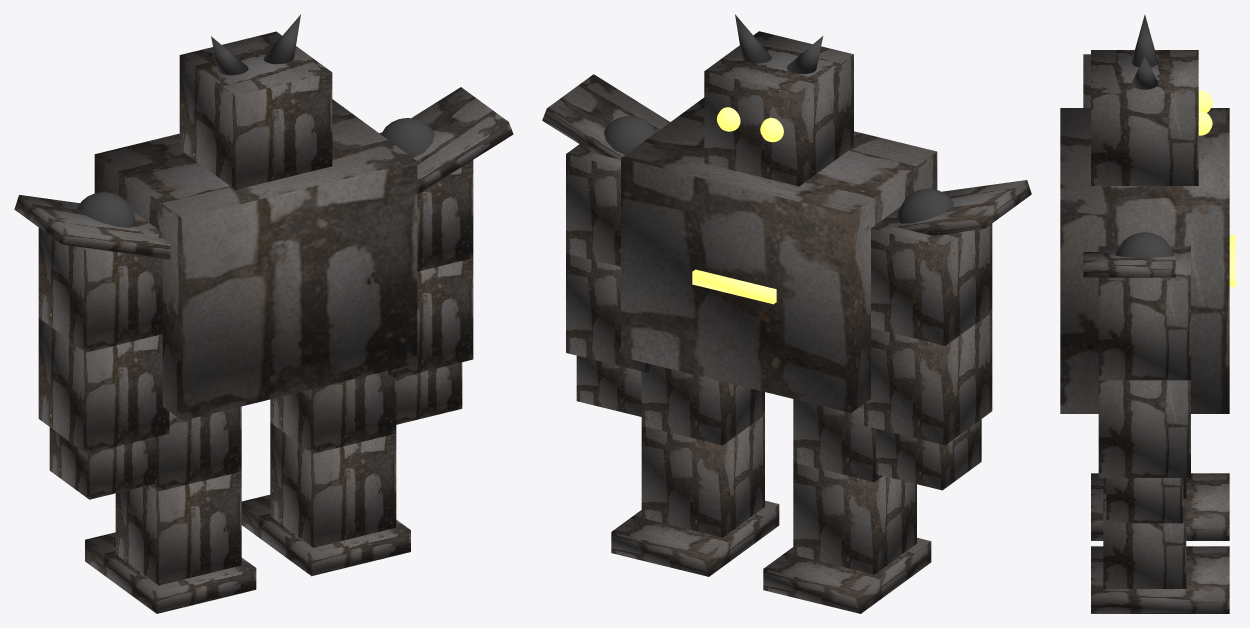
Rendered from gargoyle.glb.
3 renders of one model, left to right at view 1: azimuth 30°, elevation 25°; view 2: azimuth 150°, elevation 25°; view 3: azimuth 270°, elevation 25°, orthographic. The views are drawn at different scales.
Parts seen in each view (by area): view 1: Torso, Head, Forearm, Shin.001, UpperArm, Shin, Thigh.001, Forearm.001, Thigh, Wing.001, Foot, Foot.001 (+8 smaller); view 2: Torso, Head, UpperArm, Forearm, Shin.001, Shin, Thigh.001, Foot, Foot.001, UpperArm.001, Forearm.001, Thigh (+9 smaller); view 3: Torso, Head, UpperArm.001, Forearm.001, Foot.001, Shin.001, Foot, Fist.001, Wing.001, Shoulder.001, Horn, Horn.001 (+4 smaller).
Boxes of the visible parts, <box> form: Torso: <box>94,99,417,420</box>; Head: <box>179,31,332,189</box>; Forearm: <box>38,318,169,453</box>; Shin.001: <box>270,422,396,547</box>; UpperArm: <box>38,210,162,352</box>; Shin: <box>115,471,241,585</box>; Thigh.001: <box>270,371,396,453</box>; Forearm.001: <box>388,258,473,379</box>; Thigh: <box>150,406,241,491</box>; Wing.001: <box>411,87,513,194</box>; Foot: <box>85,532,256,613</box>; Foot.001: <box>241,494,410,576</box>; Torso: <box>621,97,937,412</box>; Head: <box>704,31,853,186</box>; UpperArm: <box>871,207,992,345</box>; Forearm: <box>864,312,992,445</box>; Shin.001: <box>641,415,764,537</box>; Shin: <box>793,462,916,574</box>; Thigh.001: <box>641,364,764,445</box>; Foot: <box>763,537,931,613</box>; Foot.001: <box>611,500,779,576</box>; UpperArm.001: <box>566,144,620,266</box>; Forearm.001: <box>566,253,649,372</box>; Thigh: <box>793,399,882,482</box>; Torso: <box>1060,108,1229,413</box>; Head: <box>1091,50,1198,185</box>; UpperArm.001: <box>1098,246,1190,380</box>; Forearm.001: <box>1098,380,1190,477</box>; Foot.001: <box>1091,546,1229,613</box>; Shin.001: <box>1103,498,1186,588</box>; Foot: <box>1091,473,1229,540</box>; Fist.001: <box>1106,478,1183,523</box>; Wing.001: <box>1083,252,1175,277</box>; Shoulder.001: <box>1115,232,1174,257</box>; Horn: <box>1131,14,1157,67</box>; Horn.001: <box>1131,57,1157,89</box>.
Bounding box in the file's own units: 0.8677 × 0.9873 × 0.3027.
3 materials, 1 textured.
